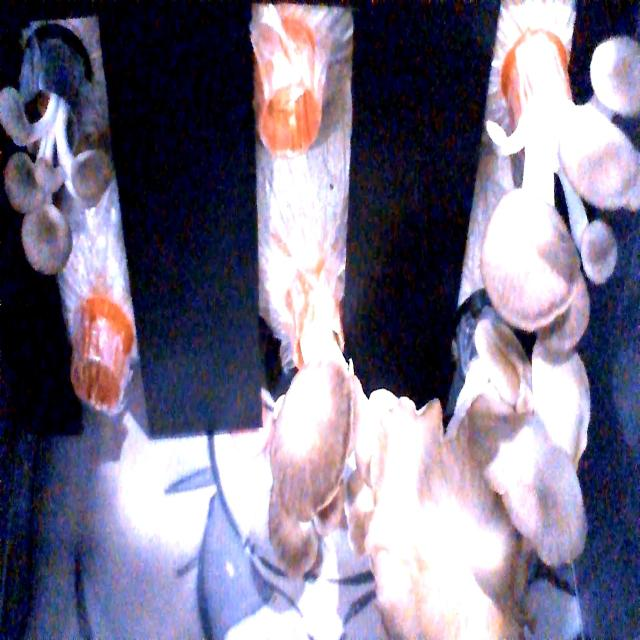big: (364, 339, 607, 638), (469, 45, 640, 346), (247, 359, 391, 563)
nfound: (248, 55, 336, 165), (70, 336, 136, 426)
small: (0, 75, 128, 276)
